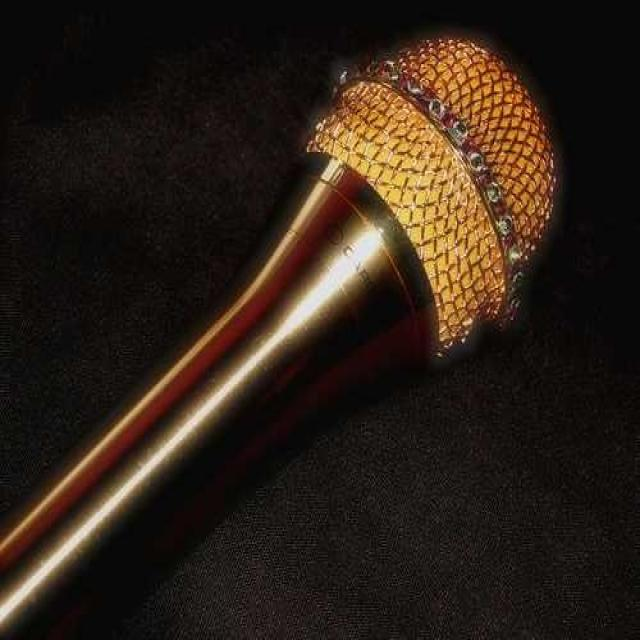microphone: (18, 47, 550, 618)
